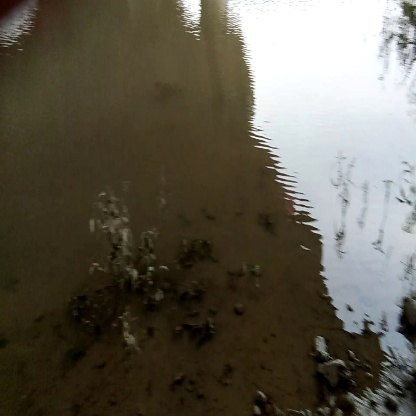grass: (79, 194, 186, 315)
